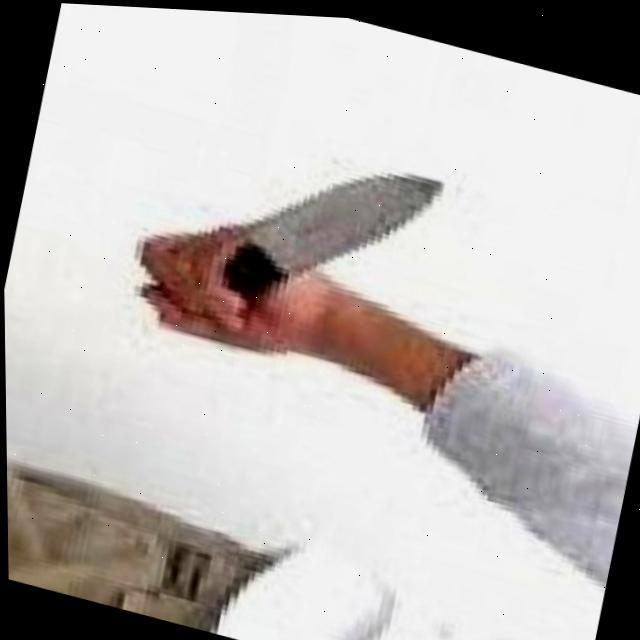knife: (216, 127, 442, 335)
